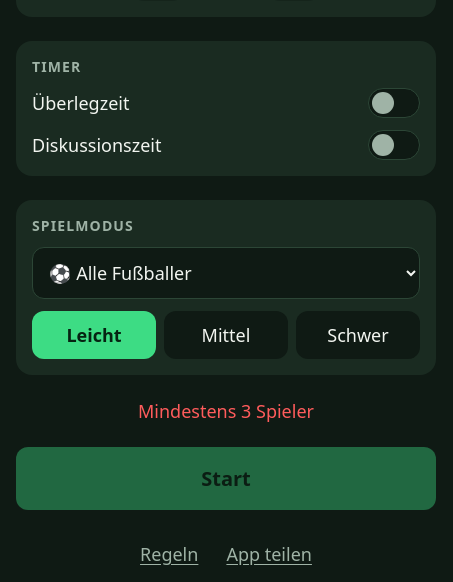
Test case: Spielmodi in der Einrichtung › zeigt die Schwierigkeit nur bei 'Alle Fußballer'
(page scrolled)
Expected: the button "Mittel" is shown, [164, 311, 288, 359]
Select "🏟️ Vereine Bundesliga" in the dropdown named "Spielmodus" at (226, 273), box [32, 247, 420, 299]
(page scrolled)
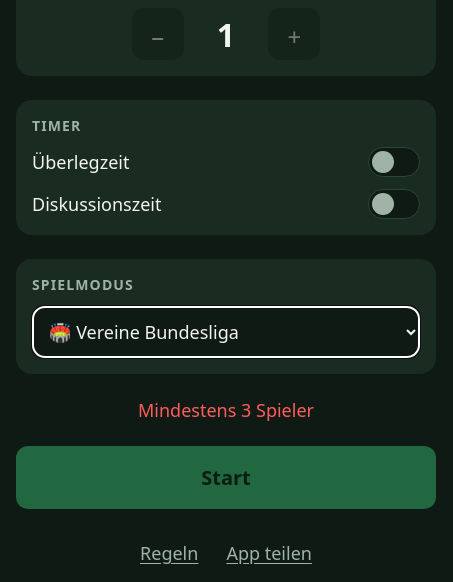
Expected: the button "Mittel" is gone
